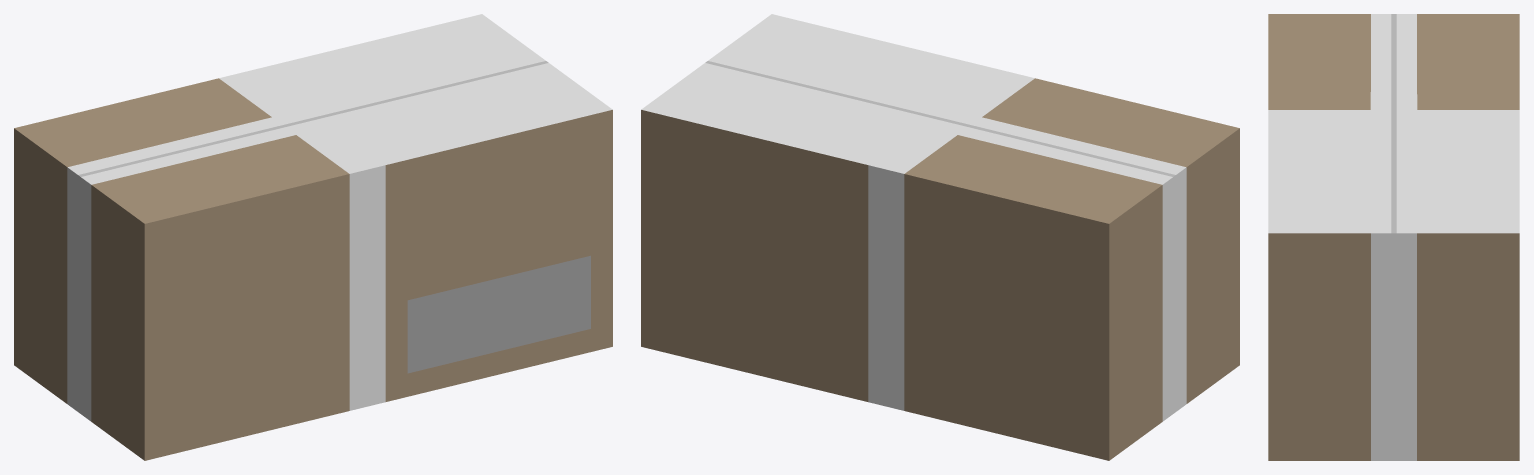
File: Caja de compra 2.fbx
3 views of the same model, side by side, from view 1: azimuth 30°, elevation 25°; view 2: azimuth 150°, elevation 25°; view 3: azimuth 270°, elevation 25° (orthographic). The views are drawn at different scales.
Visible parts, largest first — view 1: Caja_de_compra_2; view 2: Caja_de_compra_2; view 3: Caja_de_compra_2.
Boxes of the visible parts, <box> form: Caja_de_compra_2: <box>14,14,612,460</box>; Caja_de_compra_2: <box>641,14,1239,460</box>; Caja_de_compra_2: <box>1268,14,1519,460</box>.
Bounding box in the file's own units: 1.45 × 0.7031 × 0.7031.
